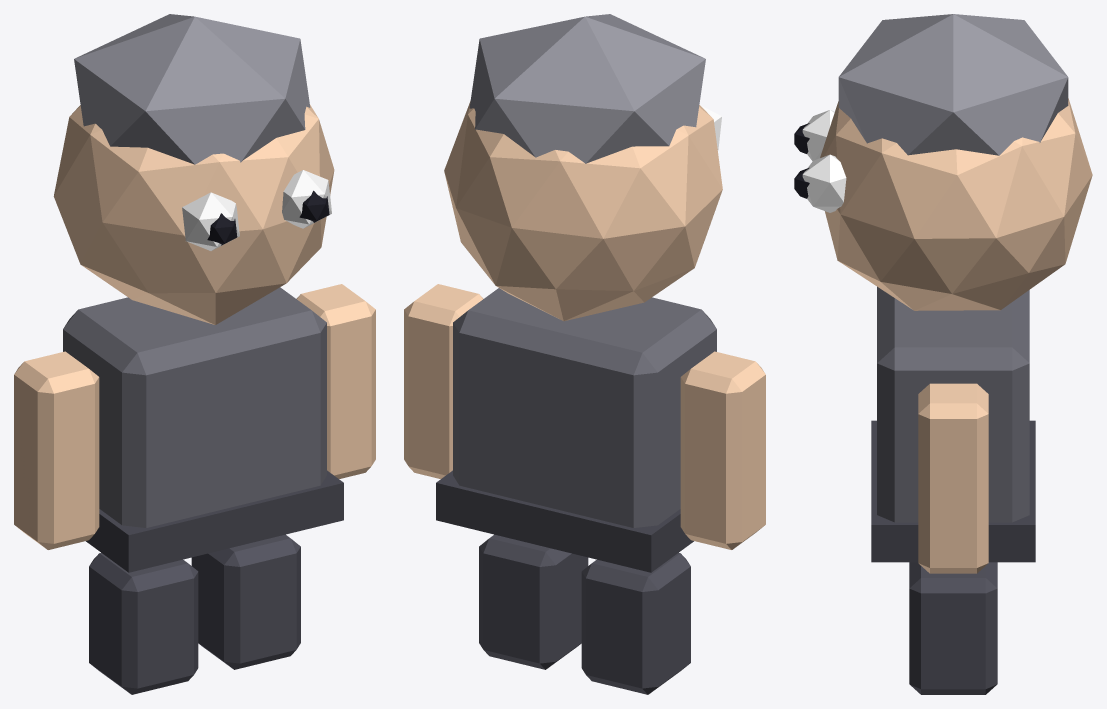
File: ArmoredGunner.fbx
3 renders of one model, left to right at view 1: azimuth 30°, elevation 25°; view 2: azimuth 150°, elevation 25°; view 3: azimuth 270°, elevation 25°, orthographic.
Visible parts, largest first — view 1: ArmoredGunner; view 2: ArmoredGunner; view 3: ArmoredGunner.
Part boxes in pixels (left/top/right/bottom): ArmoredGunner: left=14, top=14, right=375, bottom=694; ArmoredGunner: left=404, top=14, right=765, bottom=694; ArmoredGunner: left=794, top=14, right=1092, bottom=694.
Bounding box in the file's own units: 4.29 × 7.85 × 3.3.
Materials: 1 (1 with a texture image).
